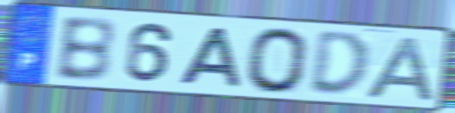6: (124, 21, 174, 85)
A: (362, 34, 439, 104), (175, 25, 245, 90)
B: (52, 15, 118, 84)
D: (306, 30, 373, 99)
O: (244, 26, 312, 96)
